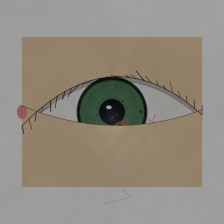foreign_body_visible: (98, 111, 143, 146)
